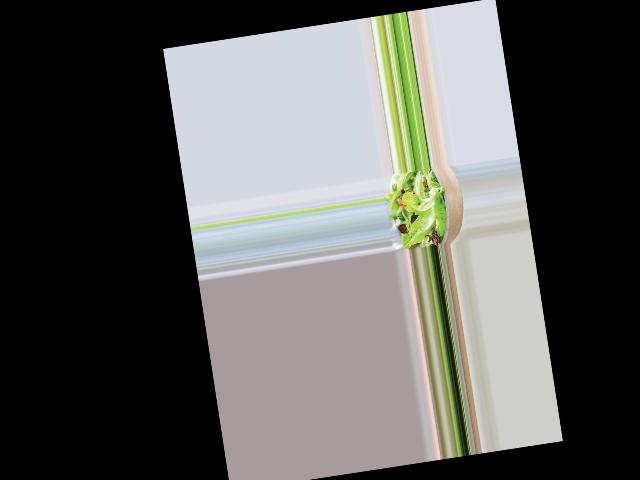lettuce: (386, 170, 450, 244)
